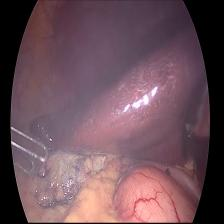Grasper: (13, 124, 53, 189)
